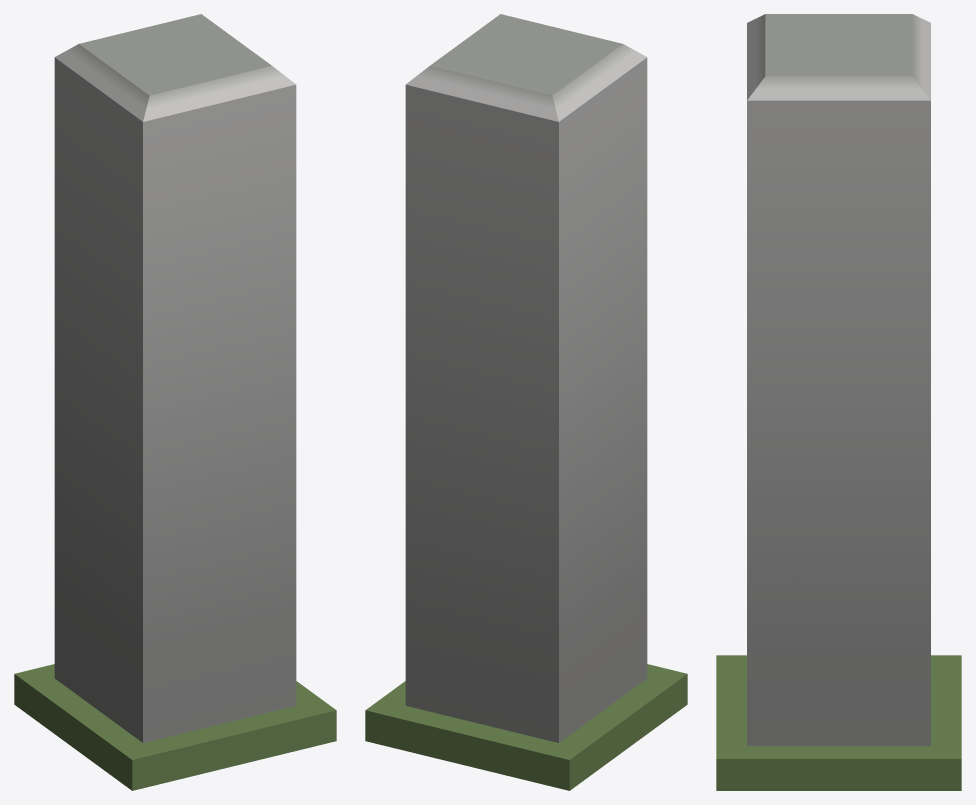
The model's file is Parking_01.fbx.
3 views of the same model, side by side, from view 1: azimuth 30°, elevation 25°; view 2: azimuth 150°, elevation 25°; view 3: azimuth 270°, elevation 25° (orthographic). The views are drawn at different scales.
Visible parts, largest first — view 1: Parking_01; view 2: Parking_01; view 3: Parking_01.
Boxes of the visible parts, bbox=[...] form: Parking_01: bbox=[14, 14, 336, 790]; Parking_01: bbox=[365, 14, 687, 790]; Parking_01: bbox=[716, 14, 961, 790].
Size of the model in its own units: 0.388 by 1.21 by 0.388.
